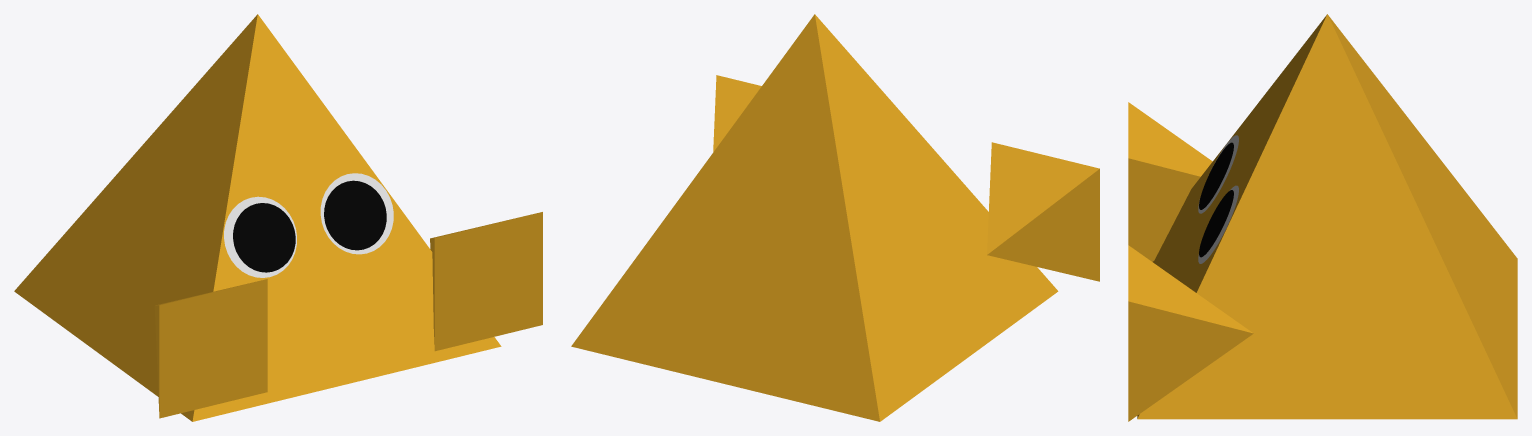
File: pilamid.fbx
3 views of the same model, side by side, from view 1: azimuth 30°, elevation 25°; view 2: azimuth 150°, elevation 25°; view 3: azimuth 270°, elevation 25° (orthographic). The views are drawn at different scales.
Parts seen in each view (by area): view 1: 円錐.001, 円錐.002, 円錐.004, 円錐.003; view 2: 円錐.001, 円錐.002; view 3: 円錐.001, 円錐.002, 円錐.004, 円錐.003.
Part boxes in pixels (x1,y1,x2,y2): 円錐.001: (14, 14, 501, 421); 円錐.002: (154, 212, 542, 418); 円錐.004: (233, 180, 386, 272); 円錐.003: (224, 173, 393, 277); 円錐.001: (571, 14, 1058, 421); 円錐.002: (713, 75, 1099, 281); 円錐.001: (1137, 14, 1517, 419); 円錐.002: (1128, 102, 1253, 421); 円錐.004: (1199, 142, 1233, 257); 円錐.003: (1198, 135, 1238, 263).
Bounding box in the file's own units: 263 × 200 × 217.
